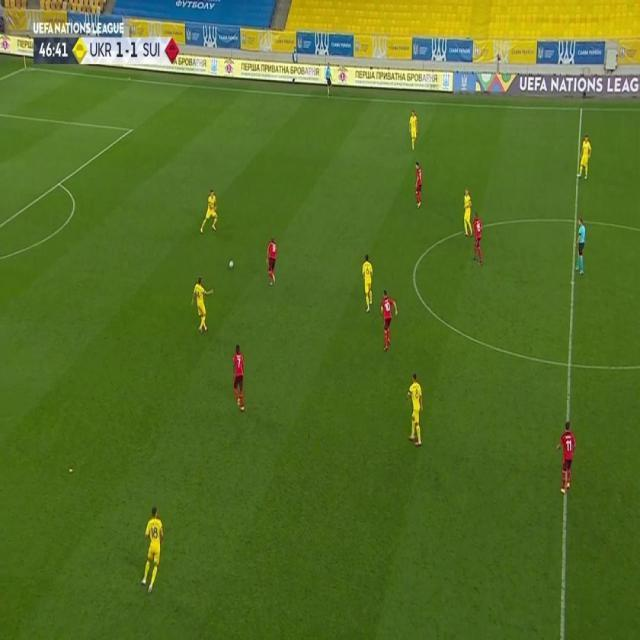ball: (228, 259, 235, 269)
player: (140, 504, 165, 594), (556, 421, 576, 496), (405, 372, 424, 447), (190, 275, 213, 335), (379, 288, 398, 353), (230, 342, 246, 413), (199, 188, 219, 235), (361, 252, 375, 312), (576, 135, 592, 181), (472, 212, 485, 267), (266, 235, 279, 286), (462, 186, 474, 238), (413, 160, 423, 210), (408, 109, 418, 152)
referee: (574, 218, 587, 276), (324, 61, 333, 97)
